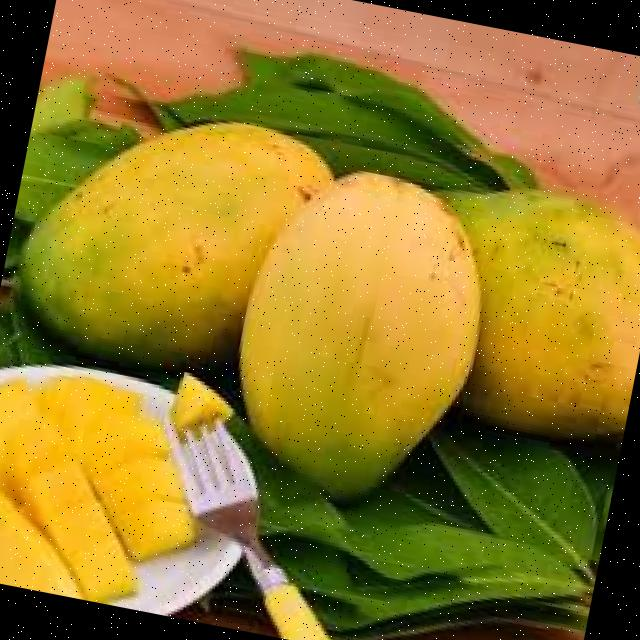mango: (236, 171, 483, 507)
